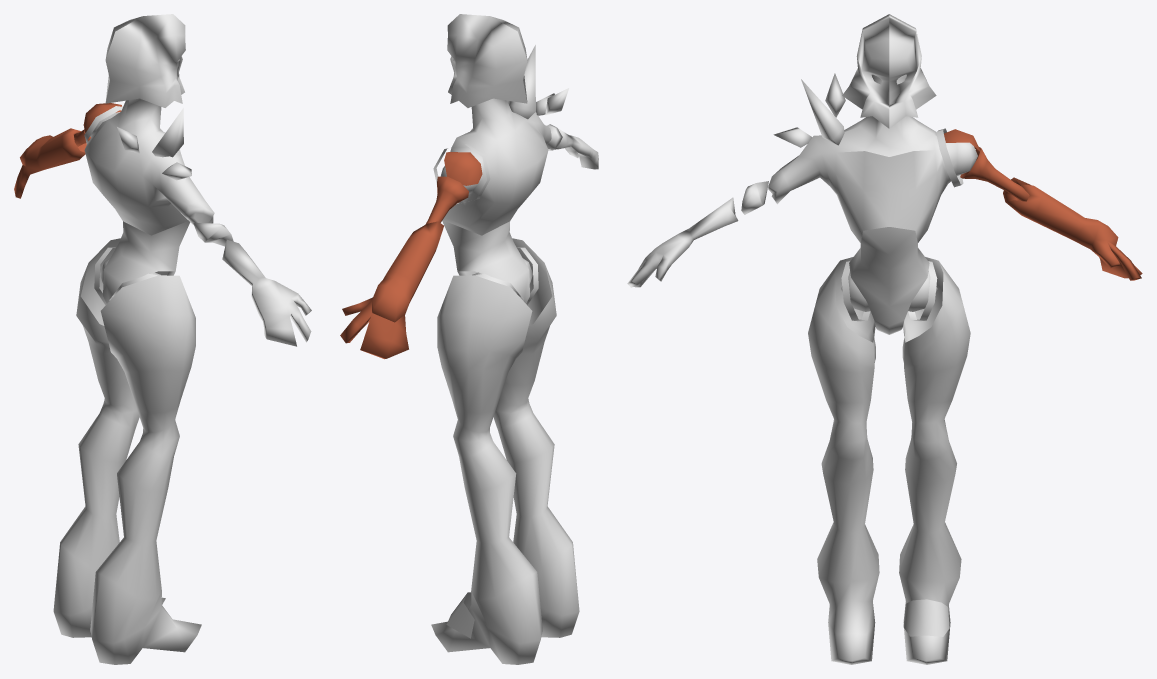
The model's file is Android_PlayerCharacter_v1 .fbx.
3 views of the same model, side by side, from view 1: azimuth 30°, elevation 25°; view 2: azimuth 150°, elevation 25°; view 3: azimuth 270°, elevation 25° (orthographic). The views are drawn at different scales.
Parts seen in each view (by area): view 1: Leg_R, Torso, Leg_L, Head, Arm_Lower_L, Shard_1, Arm_Upper_L; view 2: Leg_L, Leg_R, Torso, Head, Arm_Lower_L, Arm_Upper_L, Shard_1; view 3: Torso, Leg_R, Leg_L, Head, Arm_Lower_L, Arm_Upper_L, Shard_1, Hip.
Boxes of the visible parts, bbox=[...] form: Leg_R: bbox=[90, 273, 201, 664]; Torso: bbox=[84, 98, 311, 346]; Leg_L: bbox=[53, 238, 165, 637]; Head: bbox=[105, 14, 185, 107]; Arm_Lower_L: bbox=[14, 128, 86, 198]; Shard_1: bbox=[152, 108, 183, 157]; Arm_Upper_L: bbox=[74, 103, 121, 146]; Leg_L: bbox=[431, 273, 542, 664]; Leg_R: bbox=[493, 238, 579, 637]; Torso: bbox=[433, 98, 598, 303]; Head: bbox=[447, 14, 527, 107]; Arm_Lower_L: bbox=[340, 221, 443, 359]; Arm_Upper_L: bbox=[425, 152, 482, 224]; Shard_1: bbox=[507, 45, 535, 119]; Torso: bbox=[627, 116, 977, 334]; Leg_R: bbox=[808, 257, 879, 664]; Leg_L: bbox=[899, 257, 970, 664]; Head: bbox=[842, 14, 936, 128]; Arm_Lower_L: bbox=[1003, 177, 1142, 280]; Arm_Upper_L: bbox=[944, 129, 1029, 201]; Shard_1: bbox=[801, 79, 844, 145]; Hip: bbox=[841, 271, 937, 311].
Bounding box in the file's own units: 89.33 × 416 × 306.
